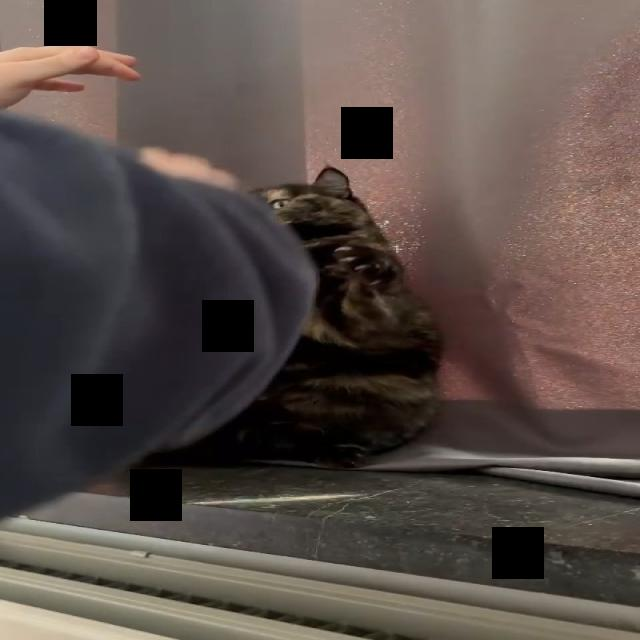authorized: (233, 164, 444, 468)
